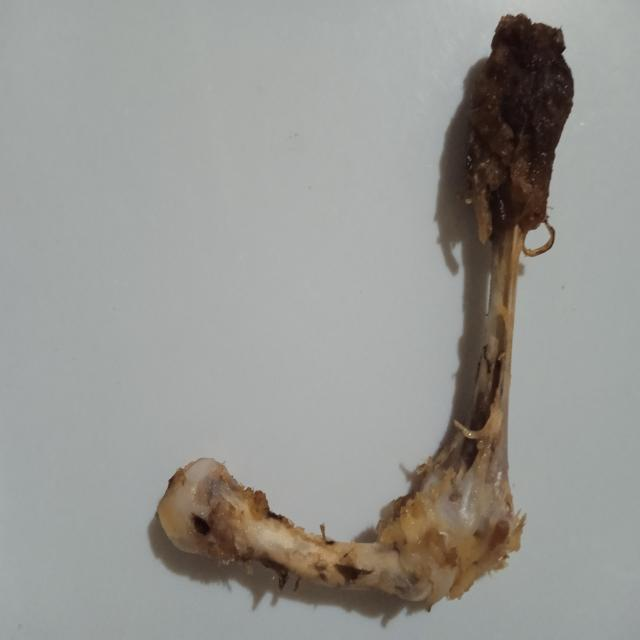bone: (148, 2, 582, 624)
